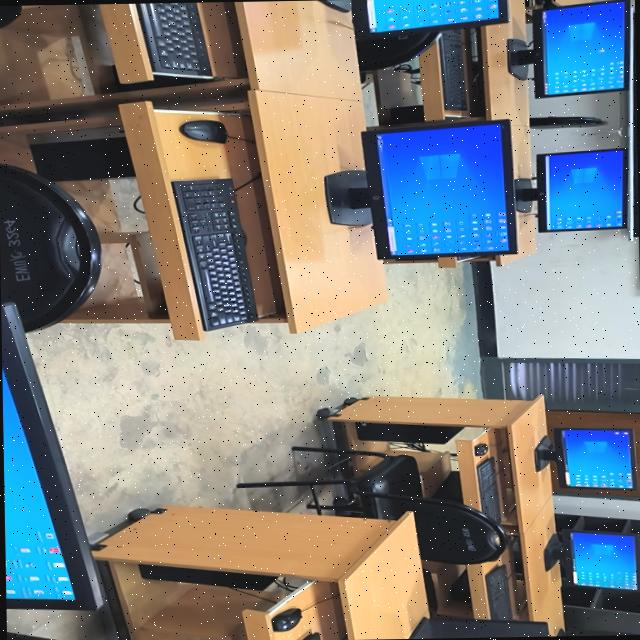Chair: (236, 446, 506, 564), (0, 163, 100, 331), (355, 32, 439, 73), (529, 116, 606, 128)
Cpu: (26, 127, 133, 181), (138, 564, 276, 590), (355, 422, 462, 444)
Keyboard: (171, 178, 257, 330), (136, 2, 213, 79), (437, 30, 465, 110), (475, 457, 500, 523), (484, 565, 511, 620)
Monitor: (323, 119, 516, 260), (507, 0, 631, 98), (515, 149, 626, 232), (317, 0, 507, 39), (535, 429, 634, 489), (543, 531, 640, 590), (407, 617, 547, 639)
Mouse: (179, 120, 226, 143), (271, 608, 301, 631), (473, 443, 488, 455)
